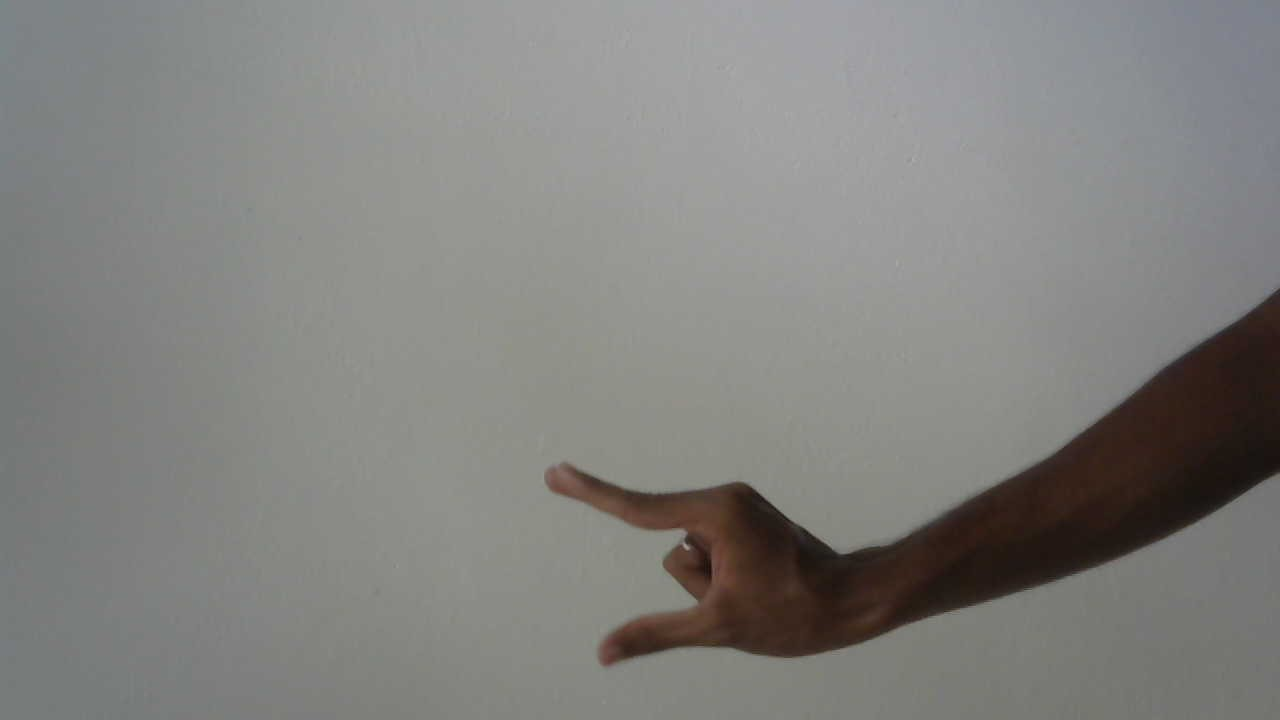no: (522, 446, 881, 692)
